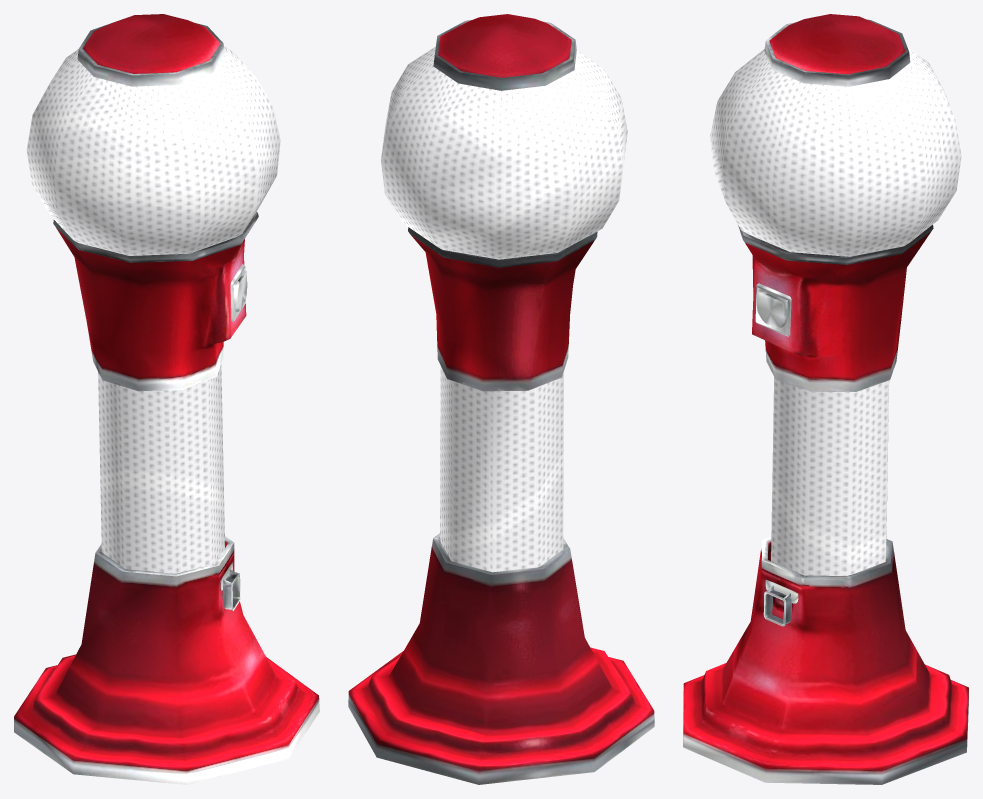
The model's file is obj_candies.gltf.
The picture shows the model from 3 angles, left to right: view 1: azimuth 30°, elevation 25°; view 2: azimuth 150°, elevation 25°; view 3: azimuth 270°, elevation 25°; orthographic projection.
Visible parts, largest first — view 1: obj_candies; view 2: obj_candies; view 3: obj_candies.
Boxes of the visible parts, left/top/right/bottom form: obj_candies: left=14, top=14, right=319, bottom=784; obj_candies: left=348, top=14, right=654, bottom=784; obj_candies: left=683, top=14, right=968, bottom=784.
Size of what is drawn, in the model's own units: 0.642 by 1.73 by 0.6421.
2 materials, 2 textured.
